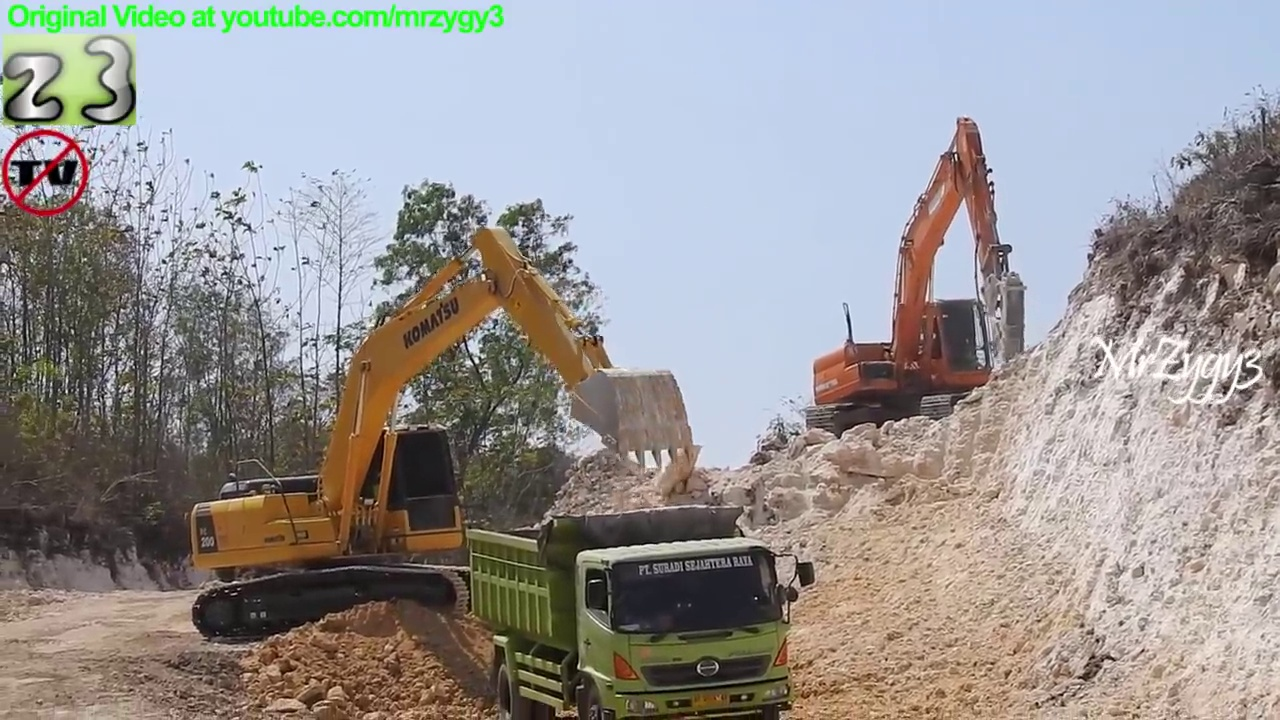excavator: (191, 226, 698, 652), (802, 110, 1038, 438)
truck: (462, 502, 823, 720)
